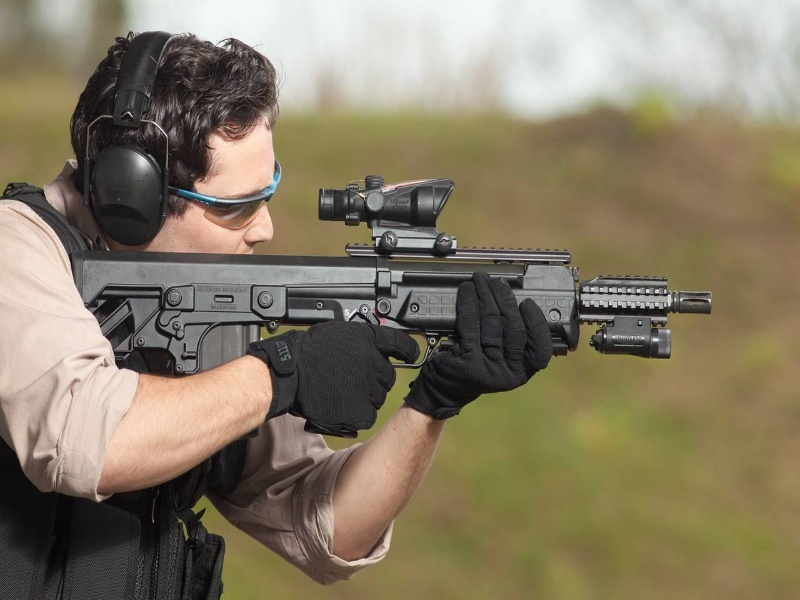person: (1, 32, 552, 600)
weapon: (69, 175, 714, 373)
